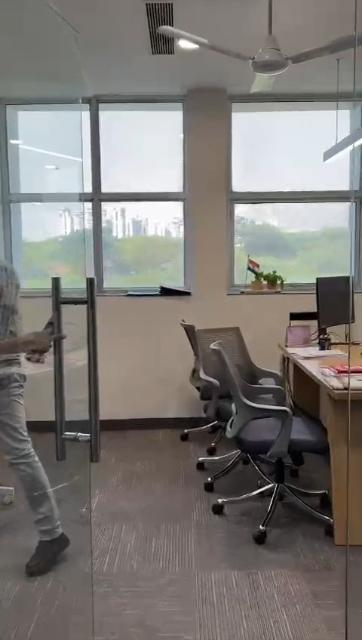floor: (0, 428, 362, 640)
moving-obj: (0, 261, 92, 574)
object: (212, 349, 310, 515), (172, 308, 260, 442), (308, 268, 354, 352)
wall: (98, 300, 186, 426), (186, 101, 232, 322)
